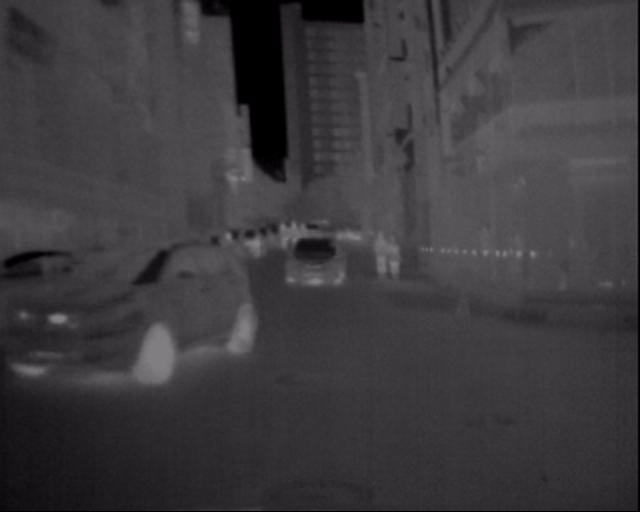person: (380, 213, 408, 290), (268, 206, 309, 252), (357, 214, 380, 285)
